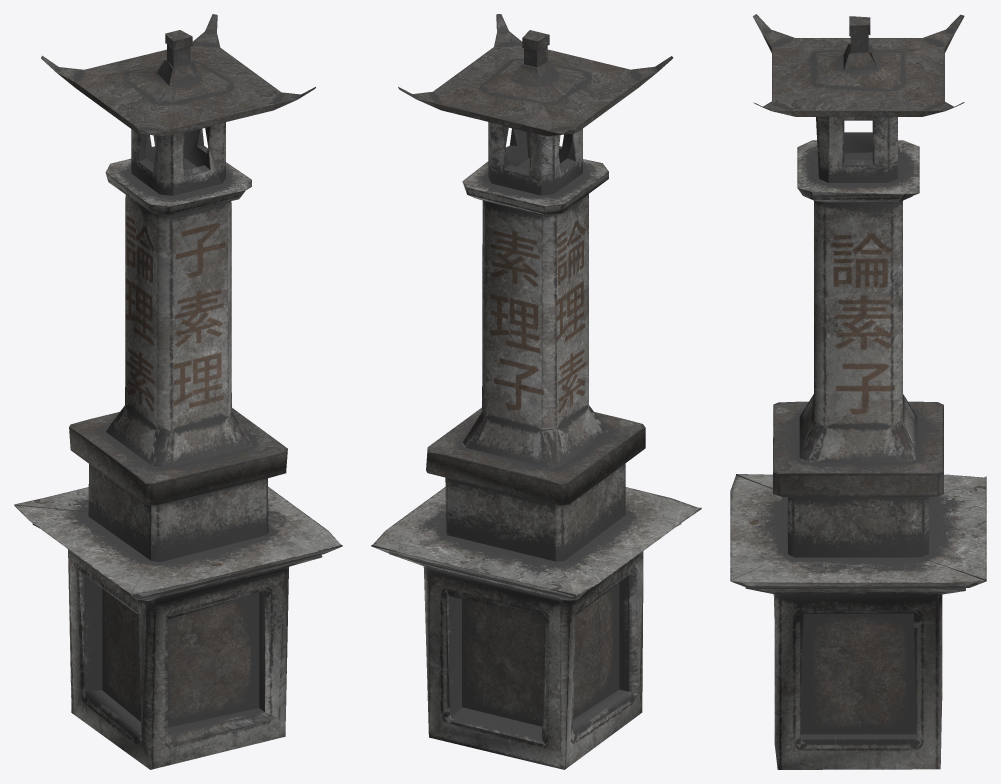
Rendered from NNJ0410001.fbx.
The picture shows the model from 3 angles, left to right: view 1: azimuth 30°, elevation 25°; view 2: azimuth 150°, elevation 25°; view 3: azimuth 270°, elevation 25°; orthographic projection. The views are drawn at different scales.
Visible parts, largest first — view 1: smNNJ0410001; view 2: smNNJ0410001; view 3: smNNJ0410001.
Part boxes in pixels (x1,y1,x2,y2): smNNJ0410001: (14,14,342,769); smNNJ0410001: (371,14,701,769); smNNJ0410001: (730,14,986,769).
Size of the model in its own units: 177 by 543 by 177.
Materials: 1 (1 with a texture image).
